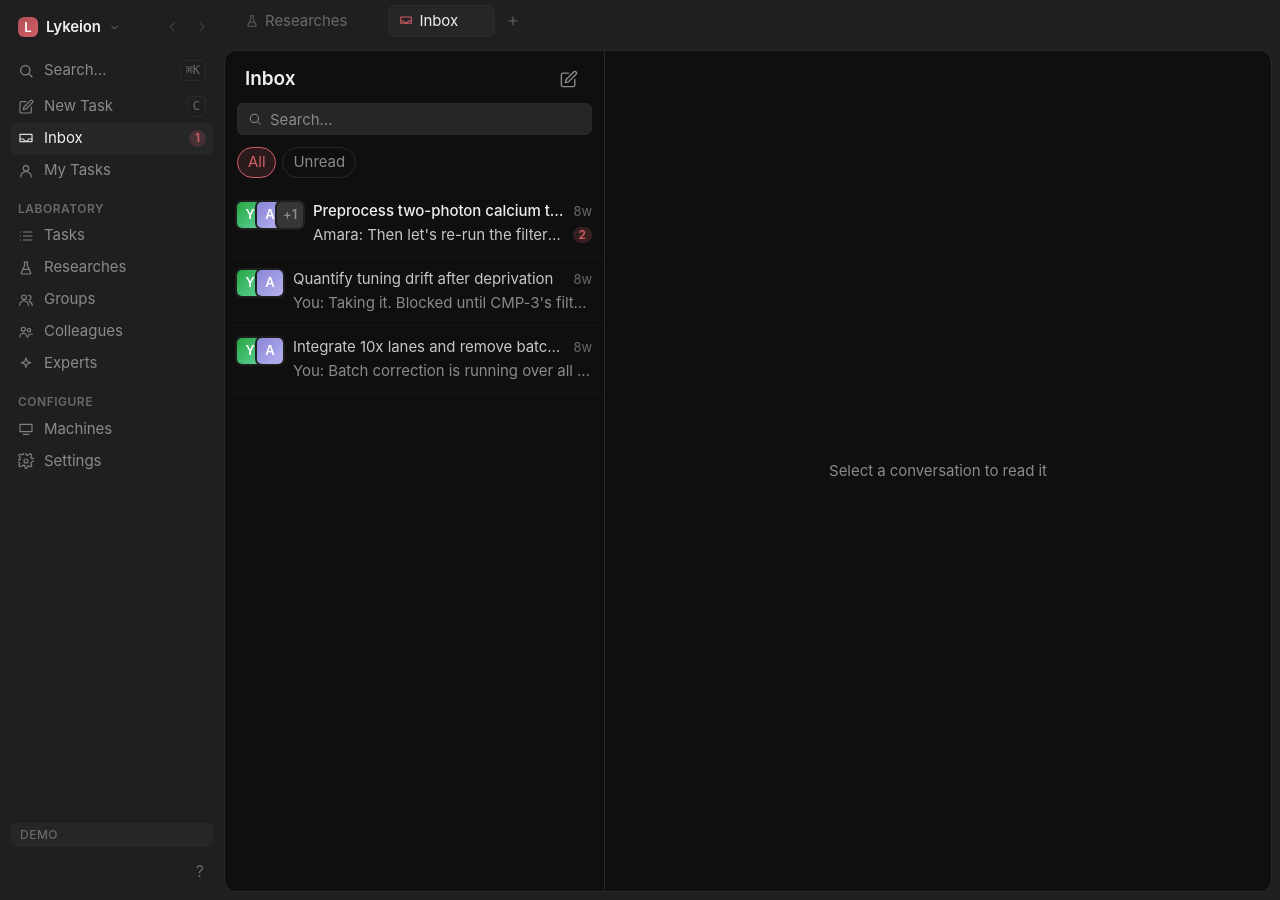
Test: narrows by chip and by search, and says so when nothing matches
Click the link "Inbox 1" at (112, 138), box [10,122,214,154]
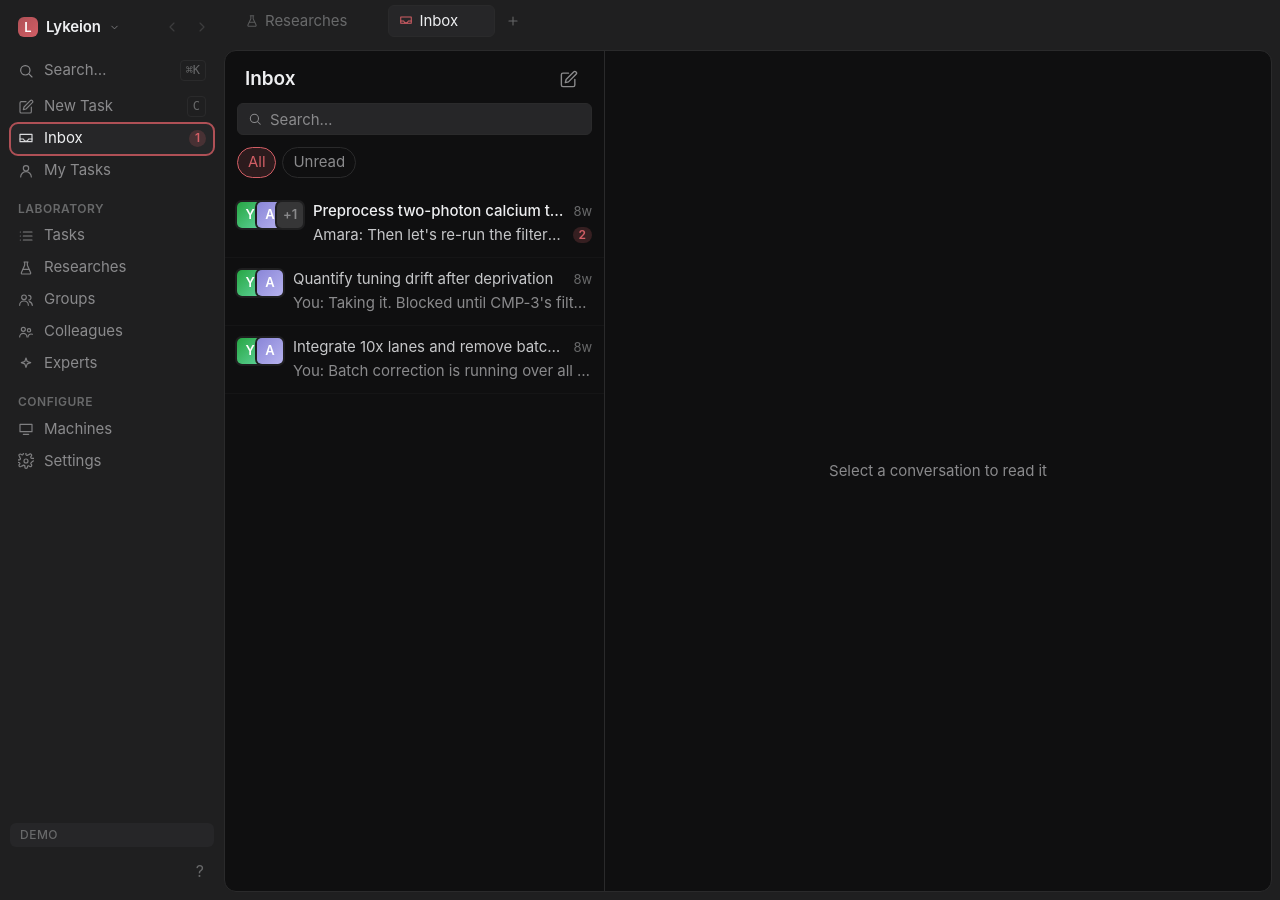
Expected: the text "Preprocess two-photon calcium traces" is shown, [313,200,565,222]
Click the button "Unread" at (319, 162), box [282,147,356,178]
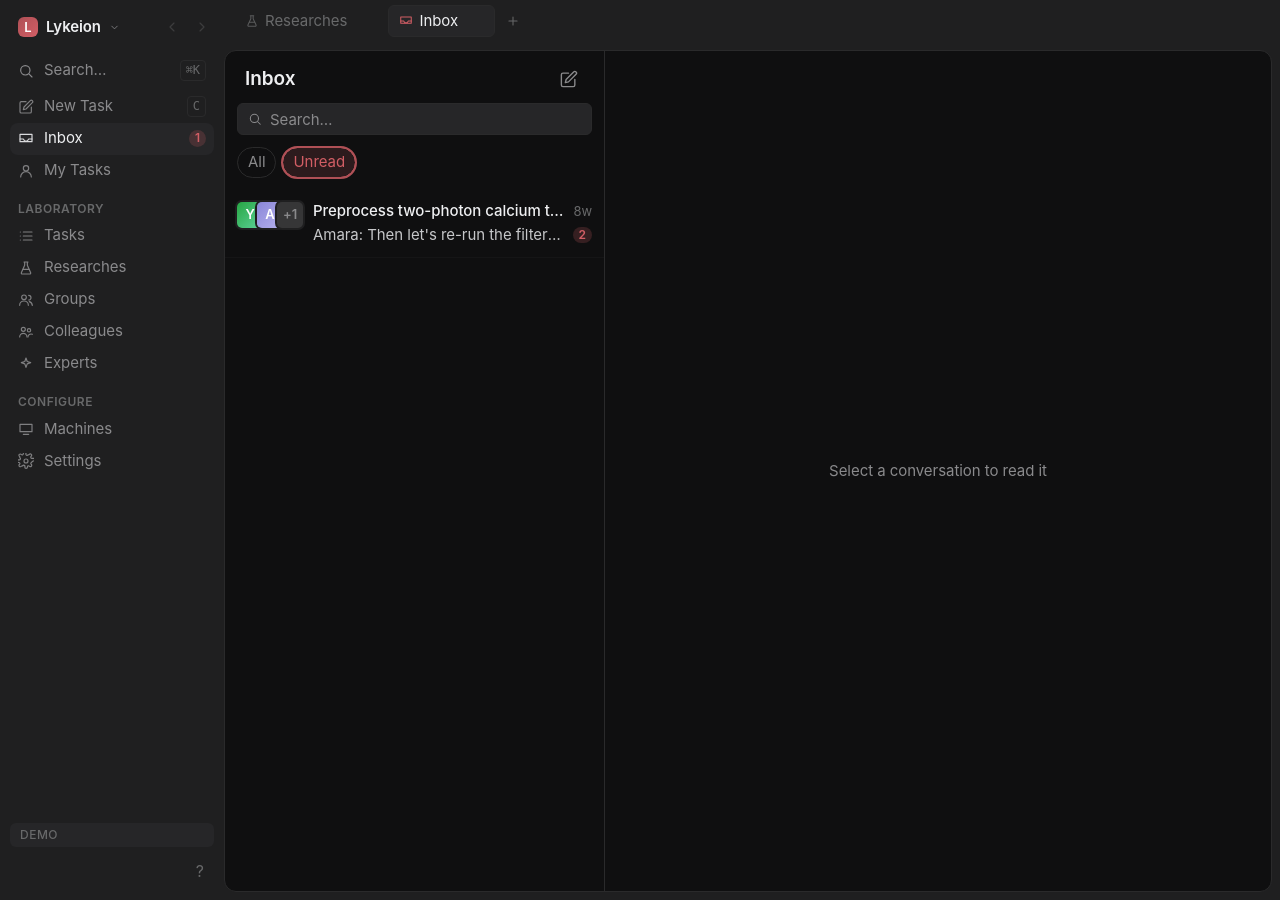
Expected: the text "Preprocess two-photon calcium traces" is shown, [313,200,565,222]
Now the button "Quantify tuning drift after deprivation" is gone
Click the button "All" at (257, 162), box [237,147,276,178]
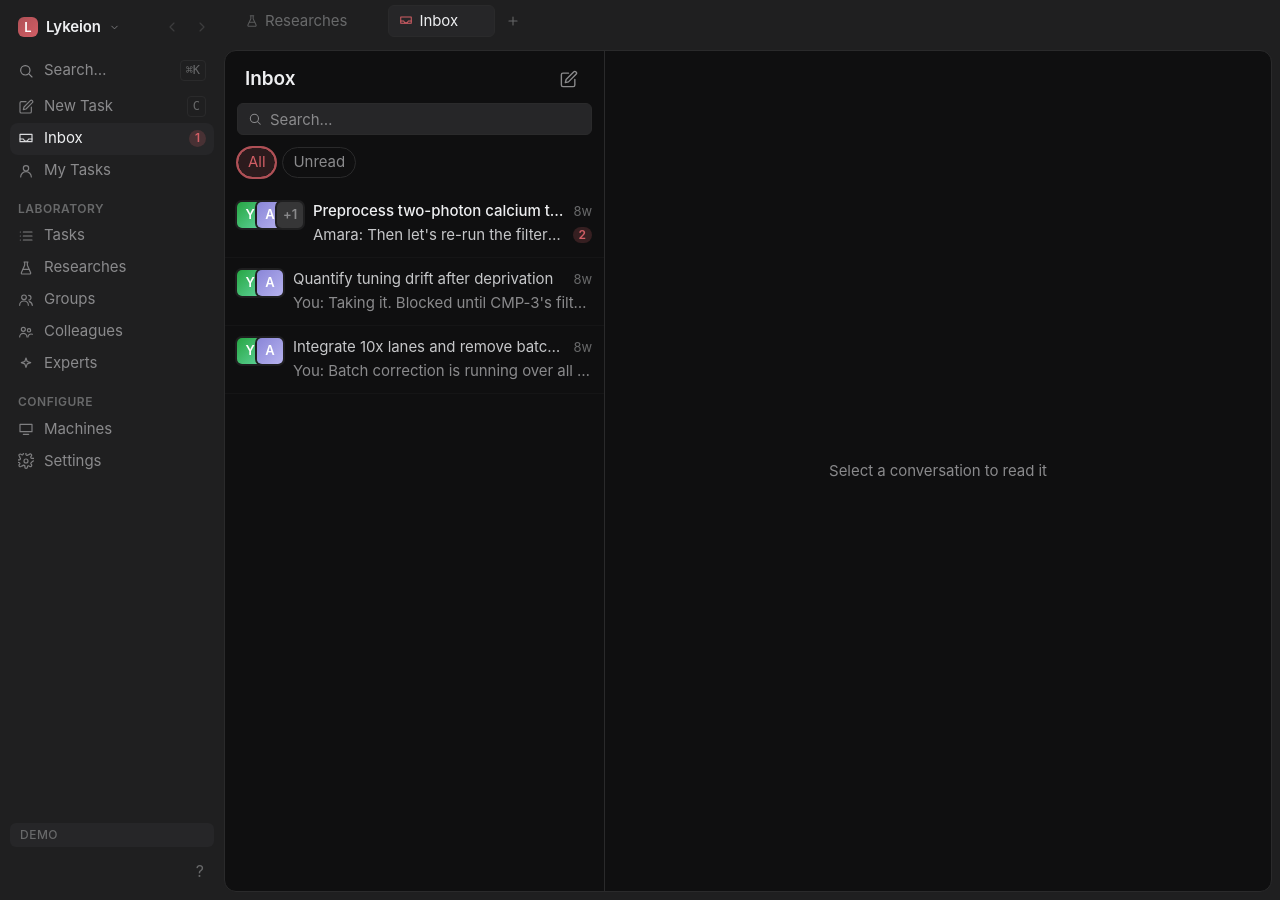
Now the text "Quantify tuning drift after deprivation" is shown, box [293,268,565,290]
Type "drift" into the field labelled "Search…" at (426, 119), box [270,104,581,134]
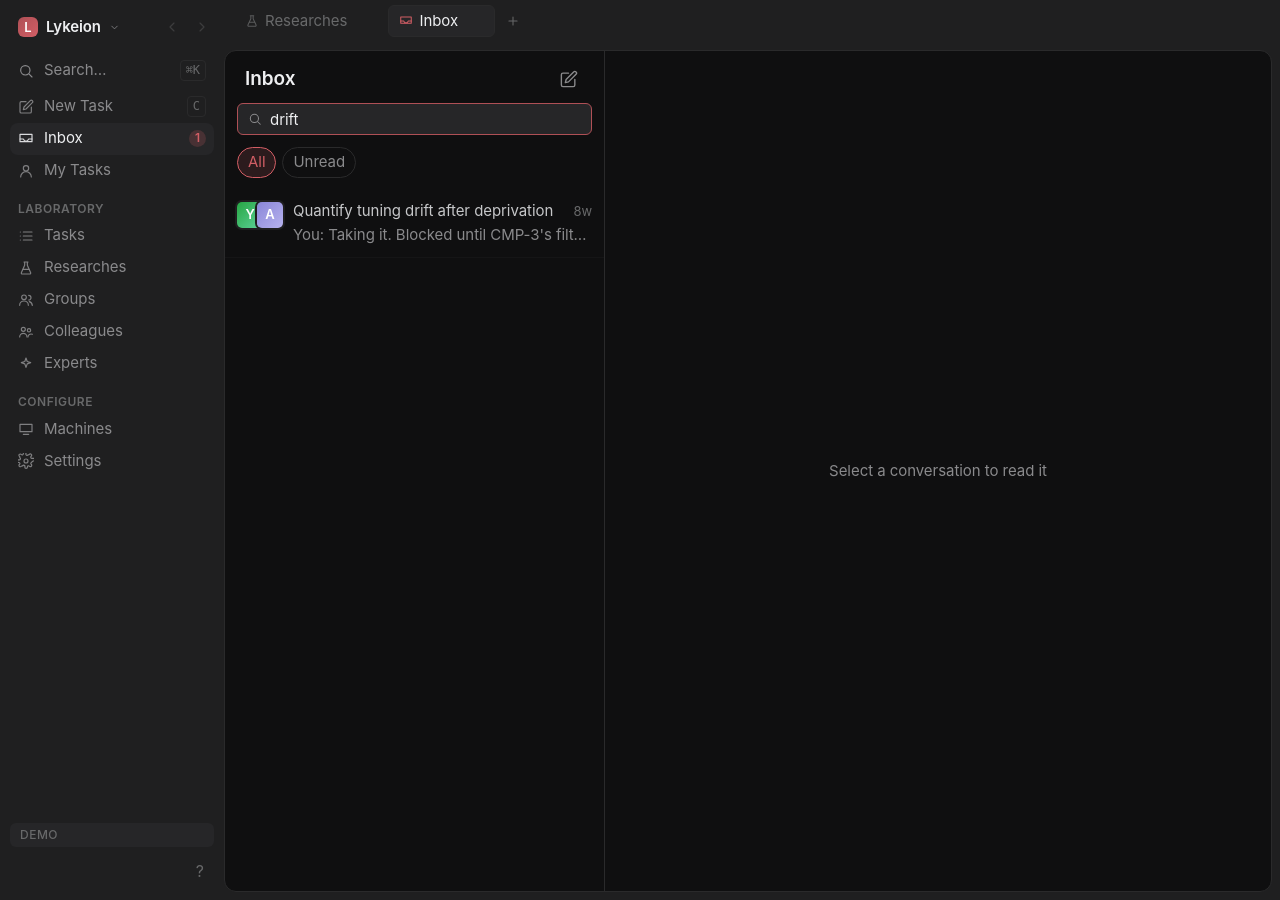
Now the text "Quantify tuning drift after deprivation" is shown, box [293,200,565,222]
Now the button "Preprocess two-photon calcium traces" is gone
Replace the text in the field named "Search" with "zzzz" at (426, 119), box [270,104,581,134]
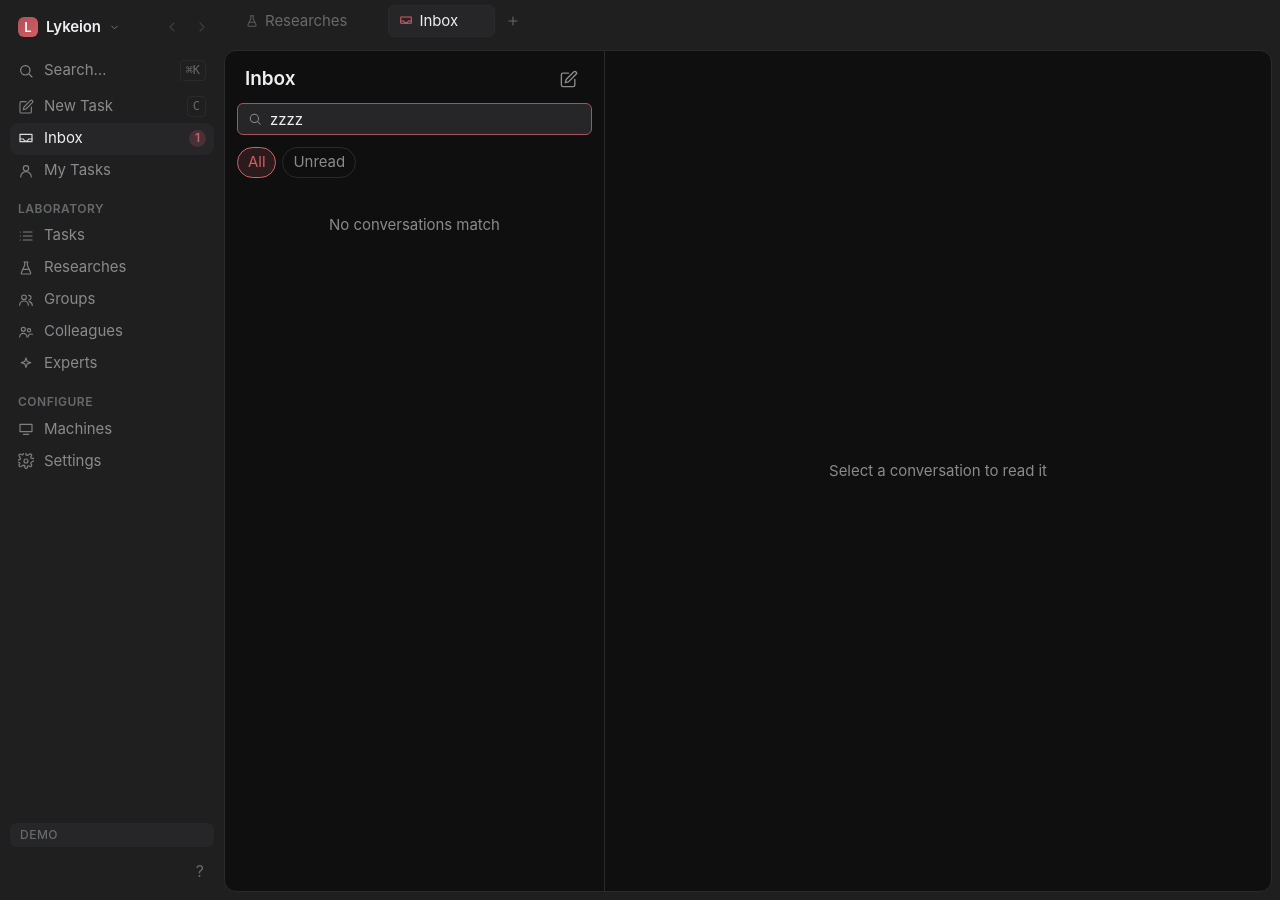
Now the text "No conversations match" is shown, box [329,214,500,234]
